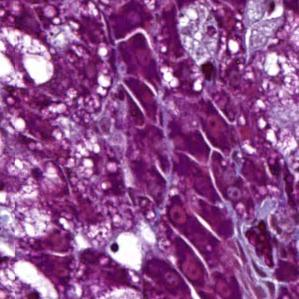ballooning: (3, 26, 54, 90)
